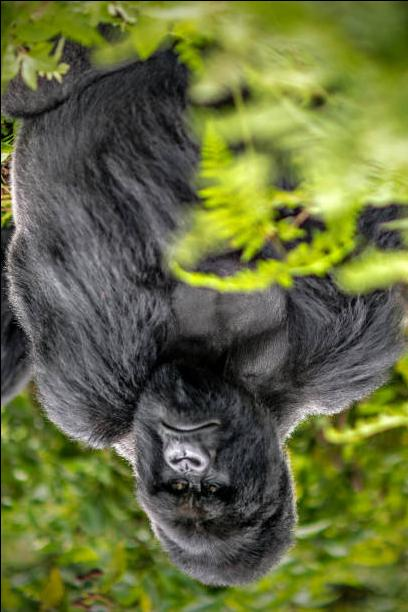goriile_montagne: (31, 133, 384, 605)
